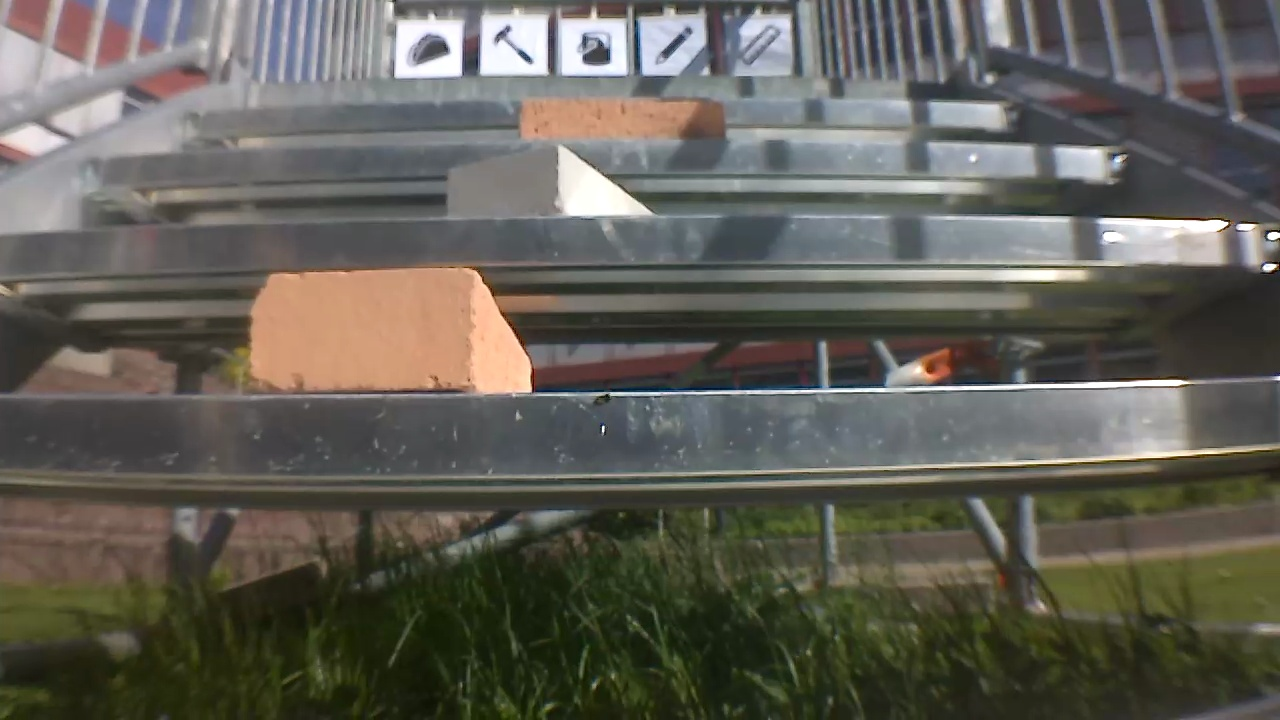brick: (231, 261, 568, 399), (430, 147, 670, 218), (511, 95, 728, 139)
bucket: (574, 28, 610, 68)
edge: (7, 379, 1280, 484), (0, 225, 1279, 299), (62, 145, 1130, 205), (168, 103, 1026, 140), (245, 70, 964, 102)
hammer: (492, 21, 537, 63)
pencil: (647, 28, 692, 63)
ruler: (736, 23, 782, 64)
steps: (14, 65, 1280, 720)
taco: (395, 28, 456, 72)
